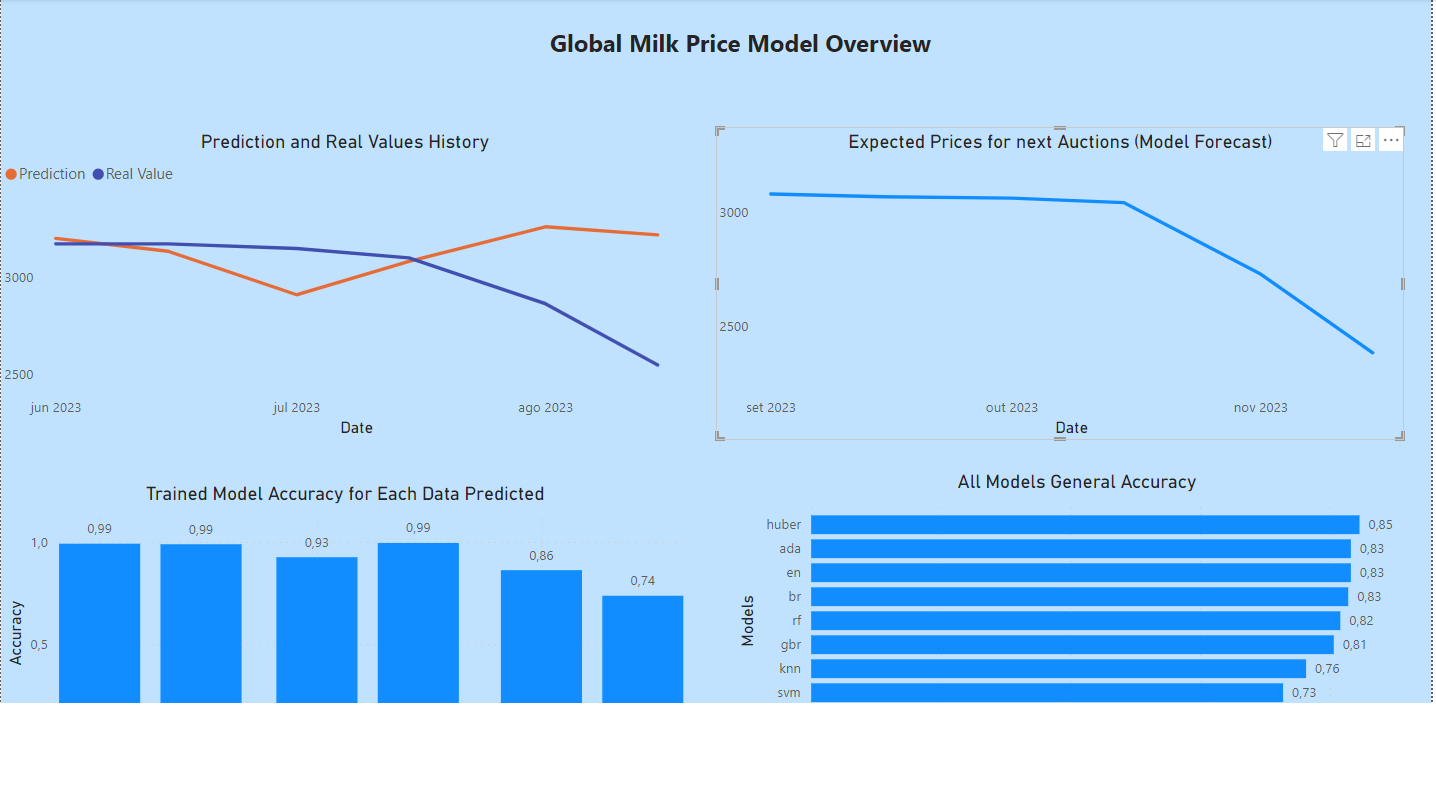

The dashboard page shown, as its layout file describes it:
{"tool":"powerbi","page":{"name":"Página 1","canvas":[1280,720],"ordinal":0},"visuals":[{"type":"lineChart","title":"Prediction and Real Values History","fields":{"Y":["Sum(test_results.prediction_label)","Sum(test_results.Whole Milk Powder)"],"Category":["test_results.Date"]},"box":[0,114.6,616.1,280.3],"z":0},{"type":"lineChart","title":"Expected Prices for next Auctions (Model Forecast)","fields":{"Y":["Sum(predictions.prediction_label)"],"Category":["predictions.Date"]},"box":[640.3,114.6,616.1,280.3],"z":1},{"type":"clusteredColumnChart","title":"Trained Model Accuracy for Each Data Predicted","fields":{"Y":["Sum(test_results.Metric_ACC)"],"Category":["test_results.Date"]},"box":[0,432.5,616.1,280.3],"z":2},{"type":"clusteredBarChart","title":"All Models General Accuracy","fields":{"Category":["models_metrics.Column1"],"Y":["Sum(models_metrics.Acc)"]},"box":[655.5,421.8,616.1,280.3],"z":3},{"type":"textbox","box":[432.5,19.7,459.4,70.7],"z":4}]}

Visuals, with their boxes in screenshot pixels (x1, y1, x2, y2), scaled from the page's 1280x720 canvas onto the 1436x810 screenshot:
"Prediction and Real Values History" lineChart: bbox(0, 129, 691, 444)
"Expected Prices for next Auctions (Model Forecast)" lineChart: bbox(718, 129, 1410, 444)
"Trained Model Accuracy for Each Data Predicted" clusteredColumnChart: bbox(0, 487, 691, 802)
"All Models General Accuracy" clusteredBarChart: bbox(735, 475, 1427, 790)
textbox: bbox(485, 22, 1001, 102)
